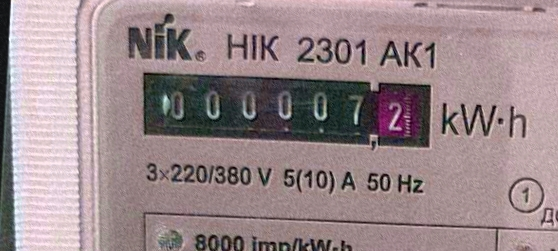0: (234, 83, 259, 122), (163, 84, 187, 121), (306, 85, 329, 122), (272, 85, 294, 123), (200, 84, 222, 120)
2: (382, 96, 405, 133)
7: (342, 88, 365, 127)
screen: (132, 60, 440, 156)
